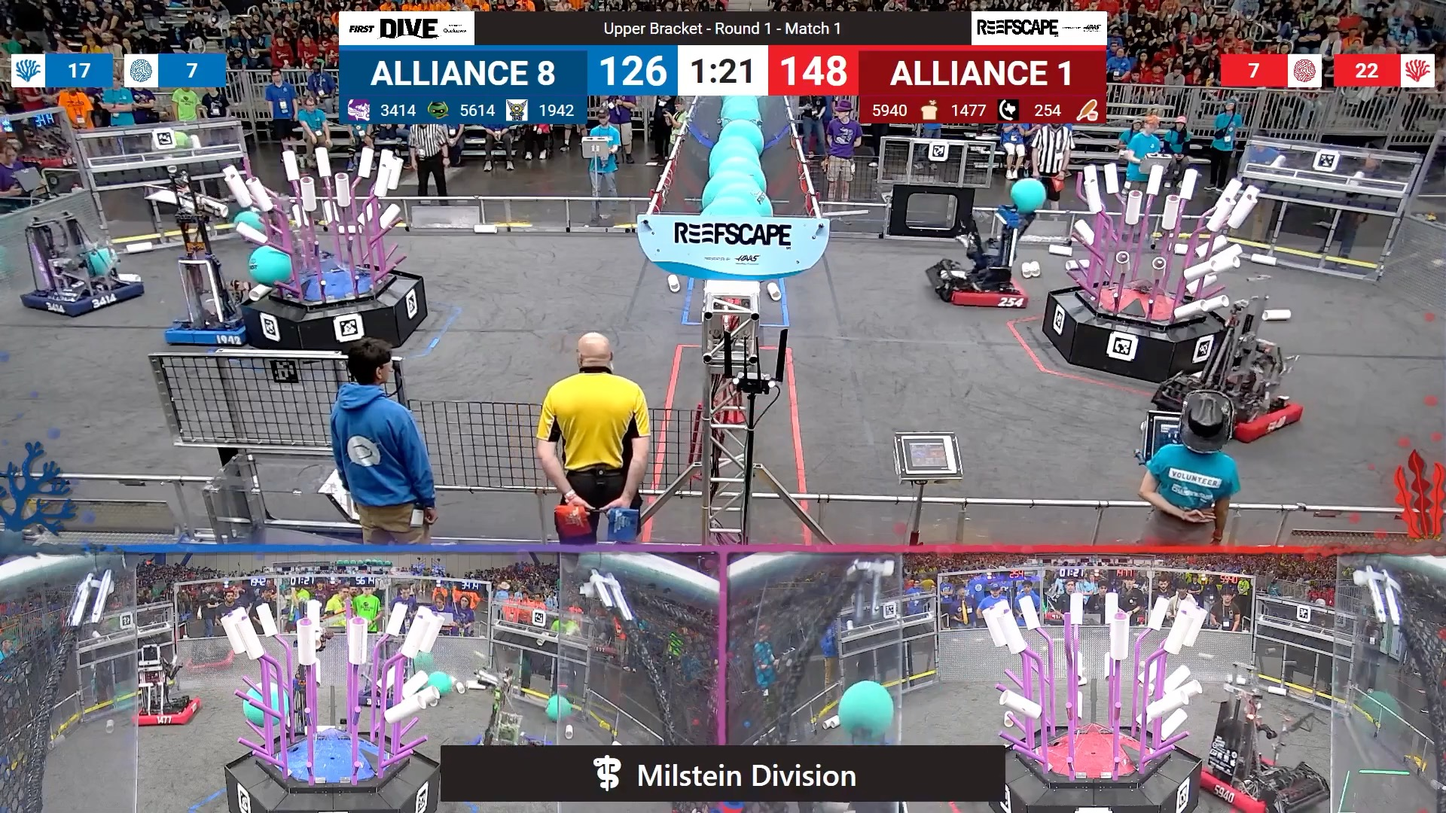bumpers: (1169, 378, 1310, 445), (1186, 759, 1324, 813), (20, 274, 153, 322), (928, 265, 1039, 318), (167, 306, 258, 351), (125, 695, 207, 733)
